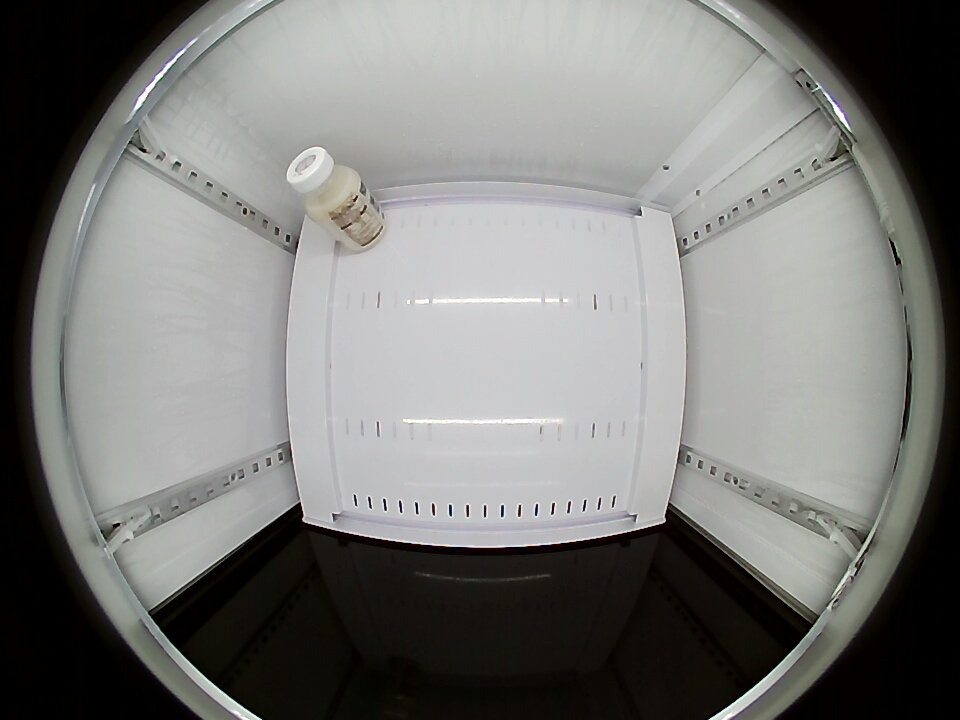weiweidounai: (286, 146, 362, 221)
